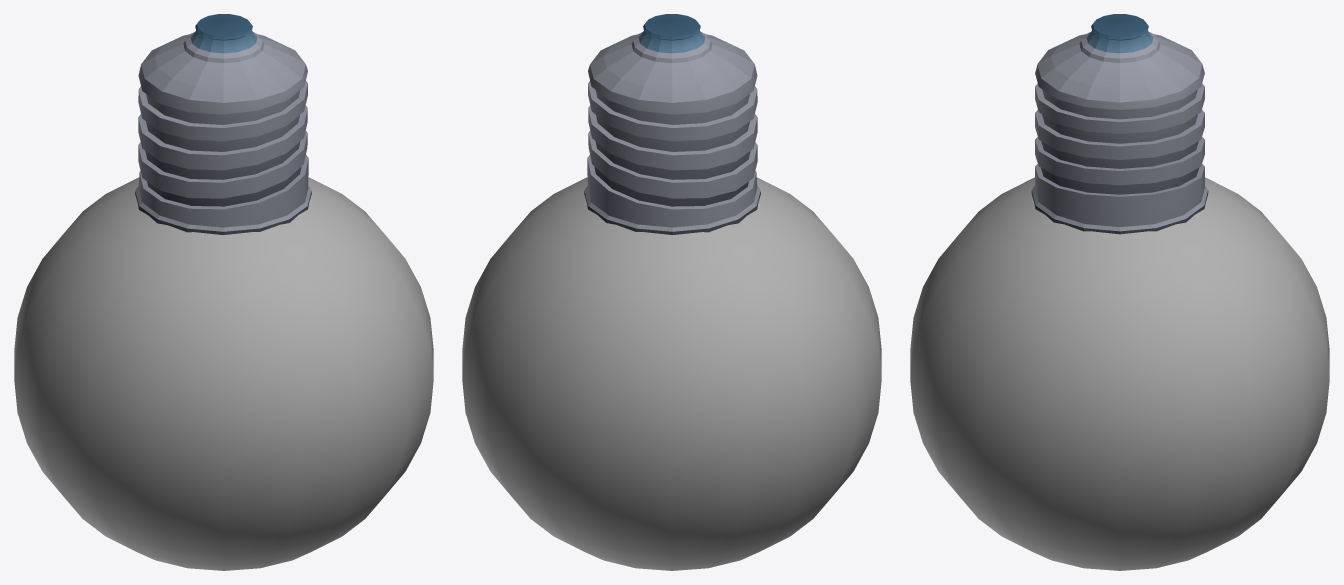
Rendered from Light_01.fbx.
3 views of the same model, side by side, from view 1: azimuth 30°, elevation 25°; view 2: azimuth 150°, elevation 25°; view 3: azimuth 270°, elevation 25° (orthographic).
Visible parts, largest first — view 1: Light_01; view 2: Light_01; view 3: Light_01.
Part boxes in pixels (x1=…): Light_01: x1=14, y1=14, x2=433, y2=570; Light_01: x1=462, y1=14, x2=881, y2=570; Light_01: x1=910, y1=14, x2=1329, y2=570.
Size of the model in its own units: 2 by 2.74 by 1.97.
